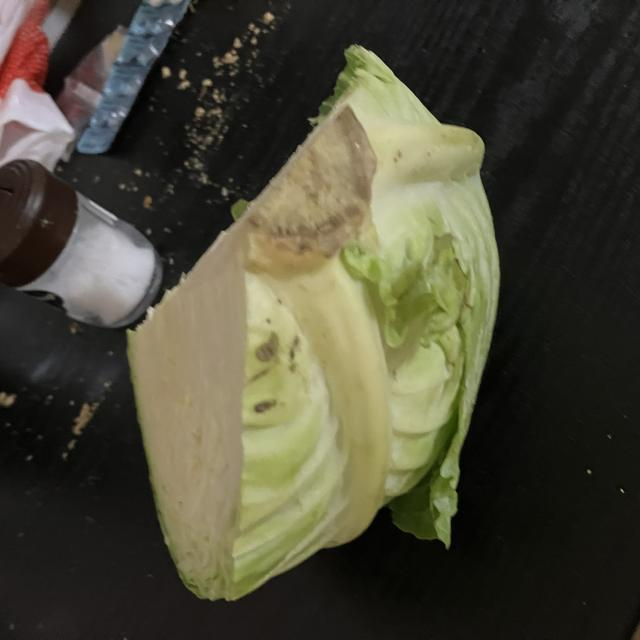haft-cabbage: (122, 41, 502, 602)
